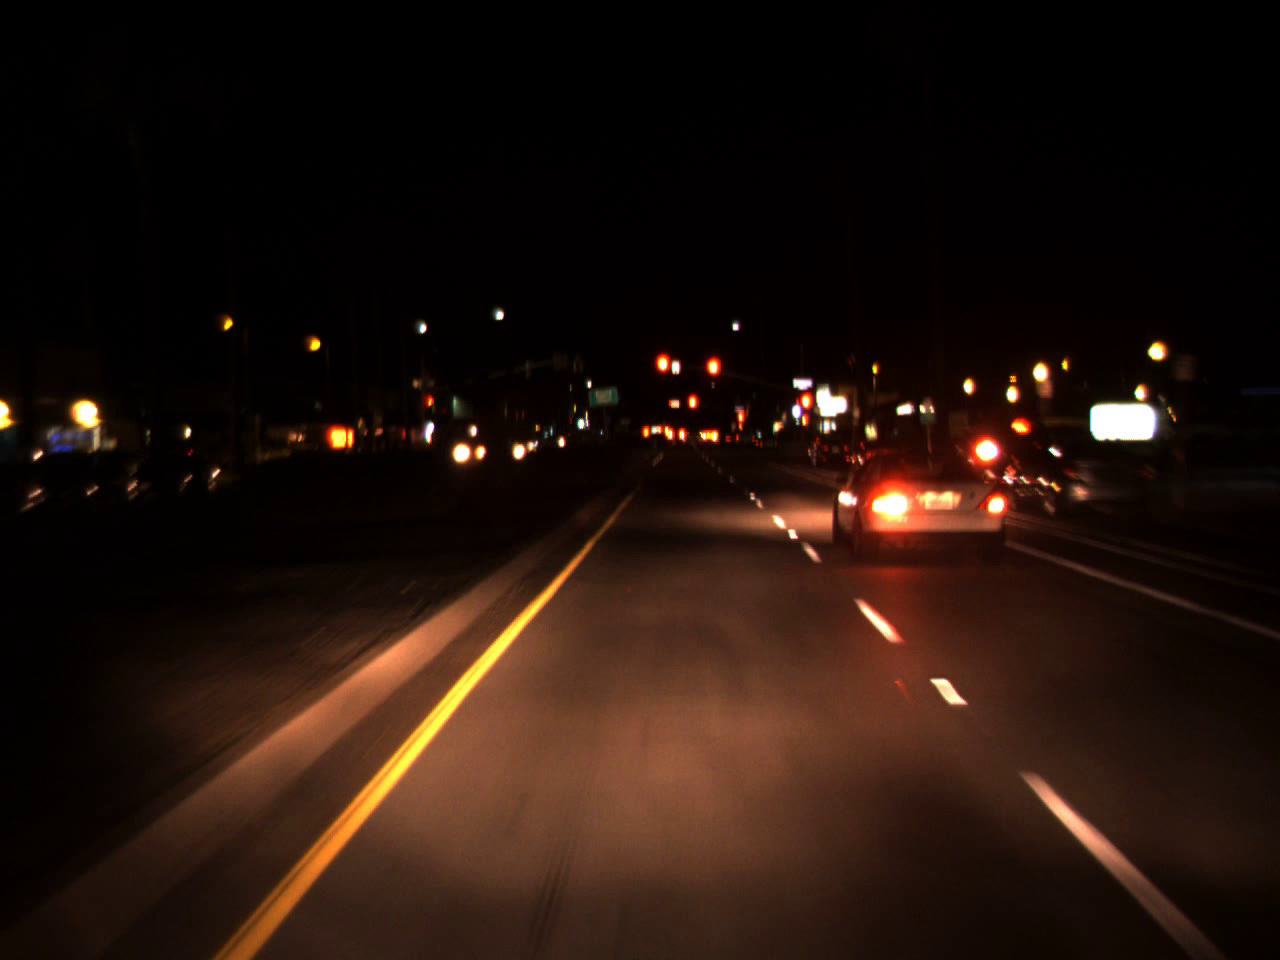stop: (791, 387, 816, 435), (653, 349, 672, 397), (703, 353, 722, 401), (736, 405, 745, 456), (686, 391, 699, 426), (426, 393, 435, 420)
